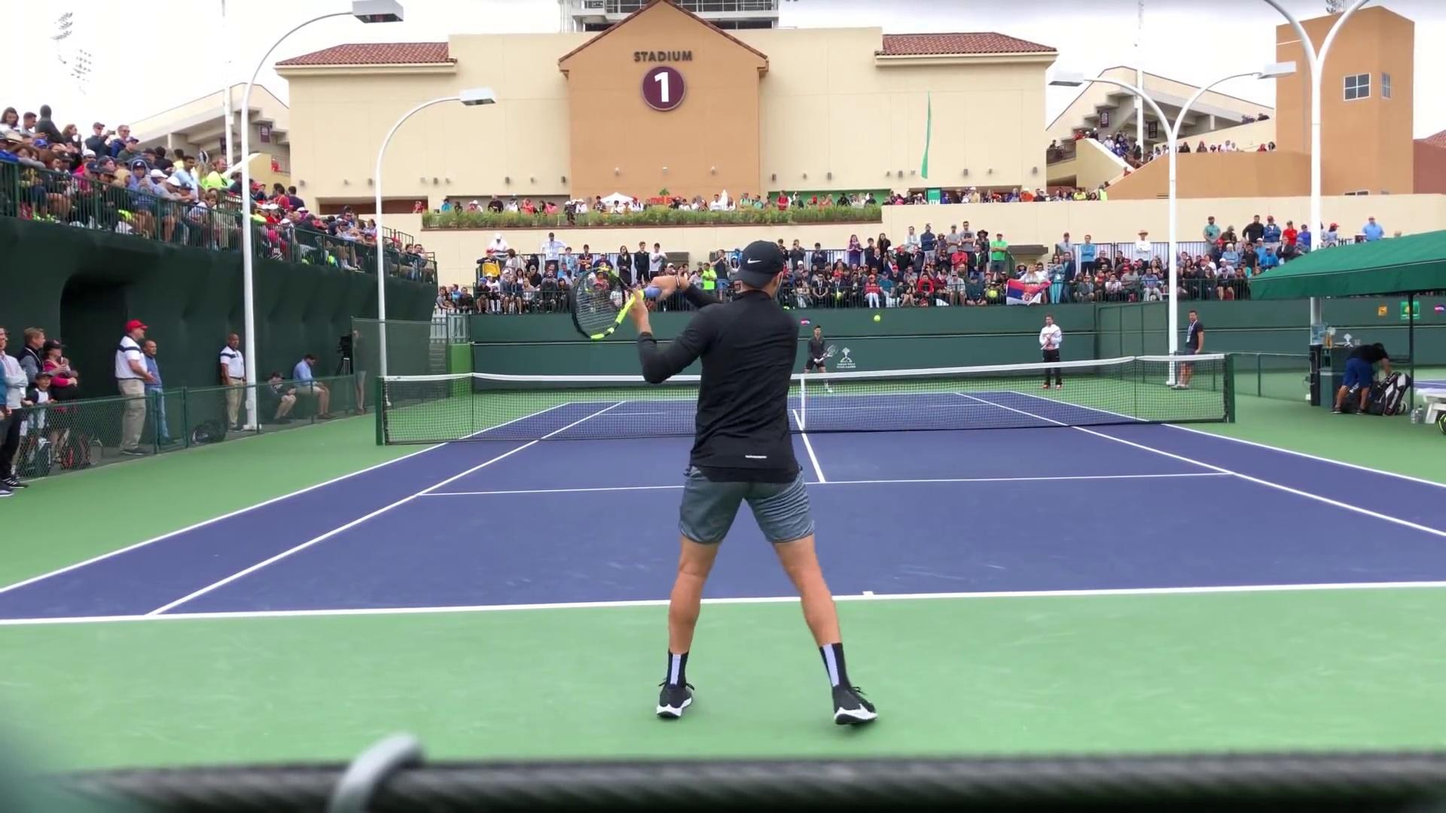ball: (874, 314, 881, 323)
